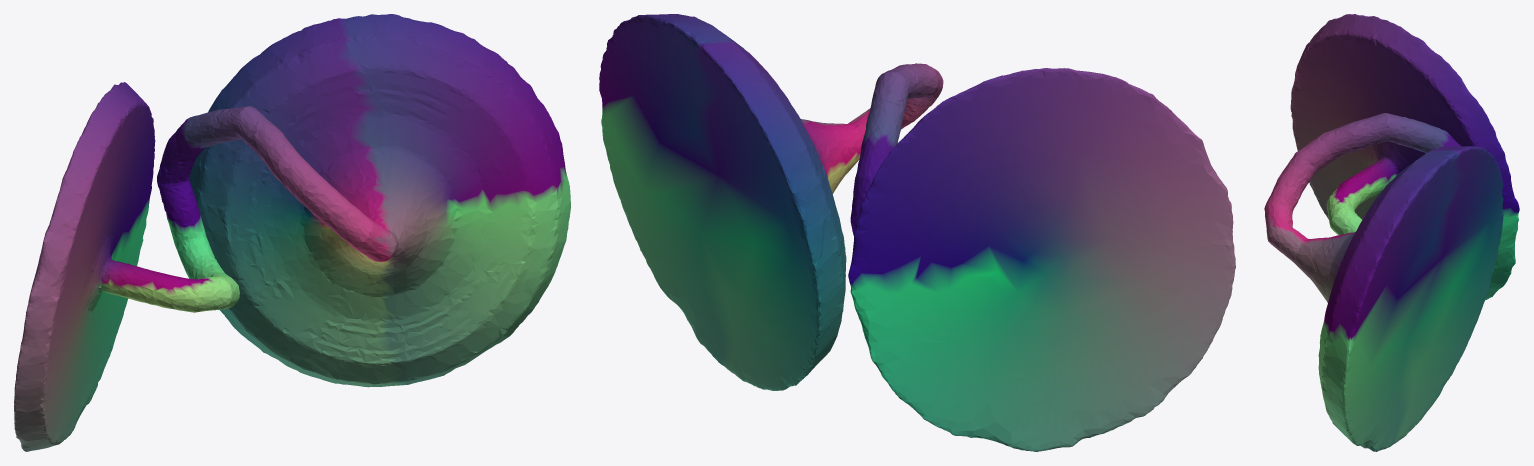
Rendered from lamp-11.off.obj.
3 renders of one model, left to right at view 1: azimuth 30°, elevation 25°; view 2: azimuth 150°, elevation 25°; view 3: azimuth 270°, elevation 25°, orthographic. The views are drawn at different scales.
Bounding box in the file's own units: 1.74 × 1.03 × 0.7887.
